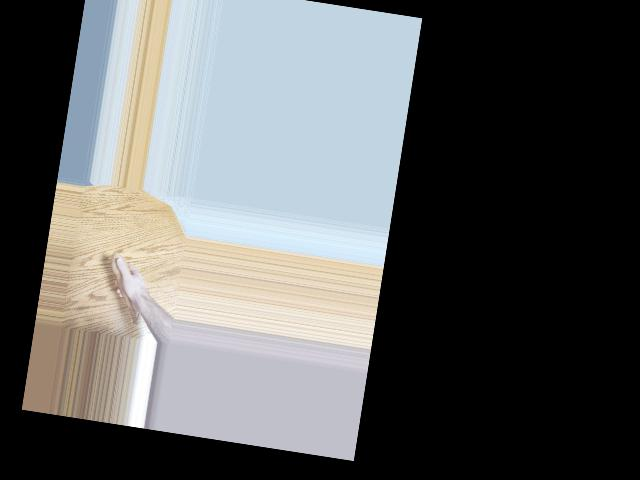sweet_potato: (103, 255, 151, 327)
